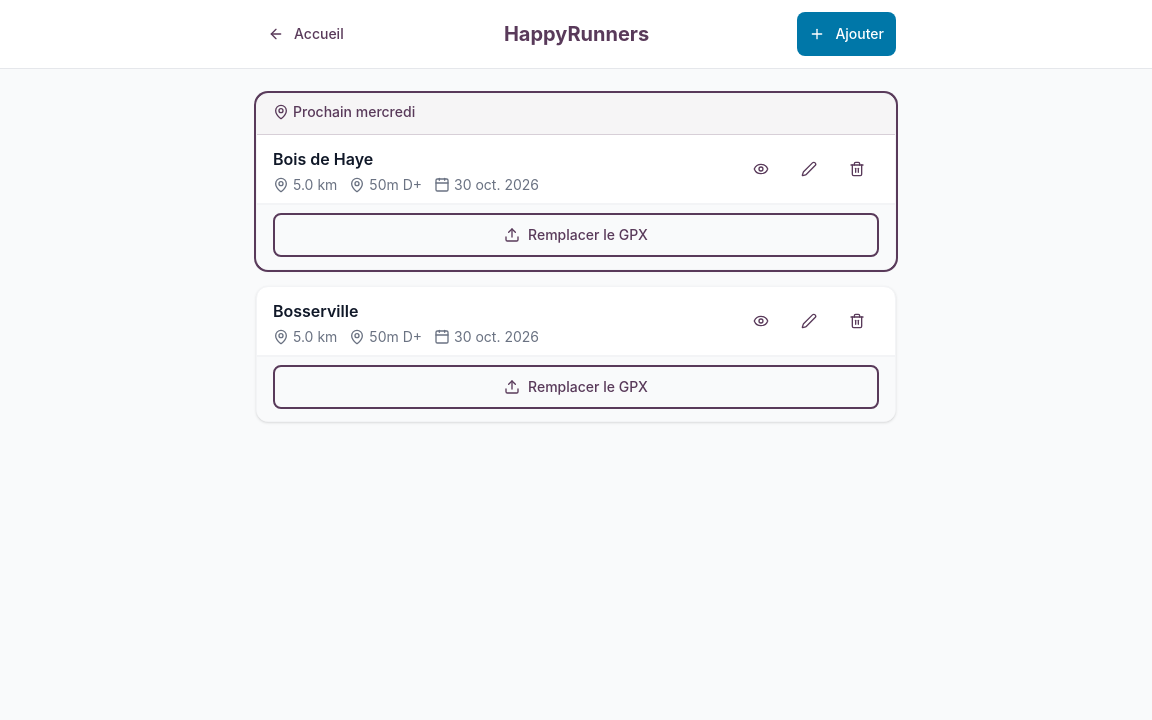
Test case: ParcoursList — suppression › retire le parcours de la liste sans rechargement manuel
Expected: the heading "Bois de Haye" is shown, [273, 149, 373, 169]
Click the button named "Supprimer" in the row of "Bois de Haye".
click(857, 169)  # box [835, 147, 879, 191]
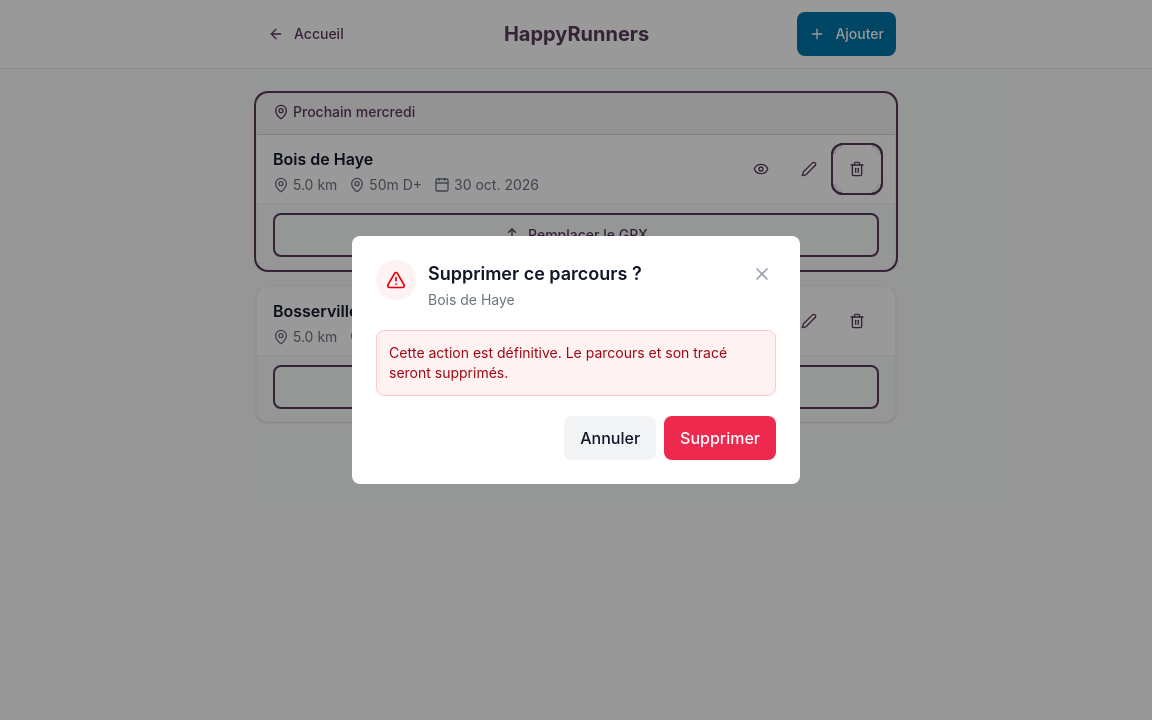
Expected: the dialog is shown
Click the button "Supprimer".
click(720, 438)  # box [664, 416, 776, 460]
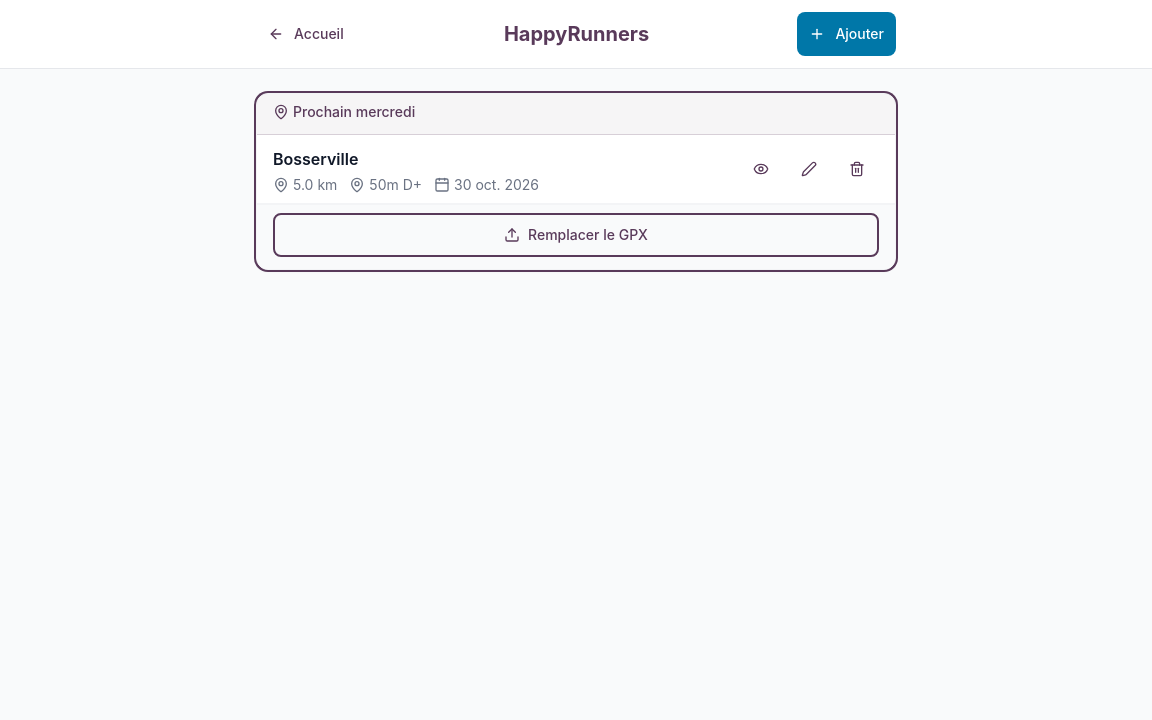
Expected: the heading "Bosserville" is shown, [273, 149, 358, 169]
Expected: the heading "Bois de Haye" is gone
